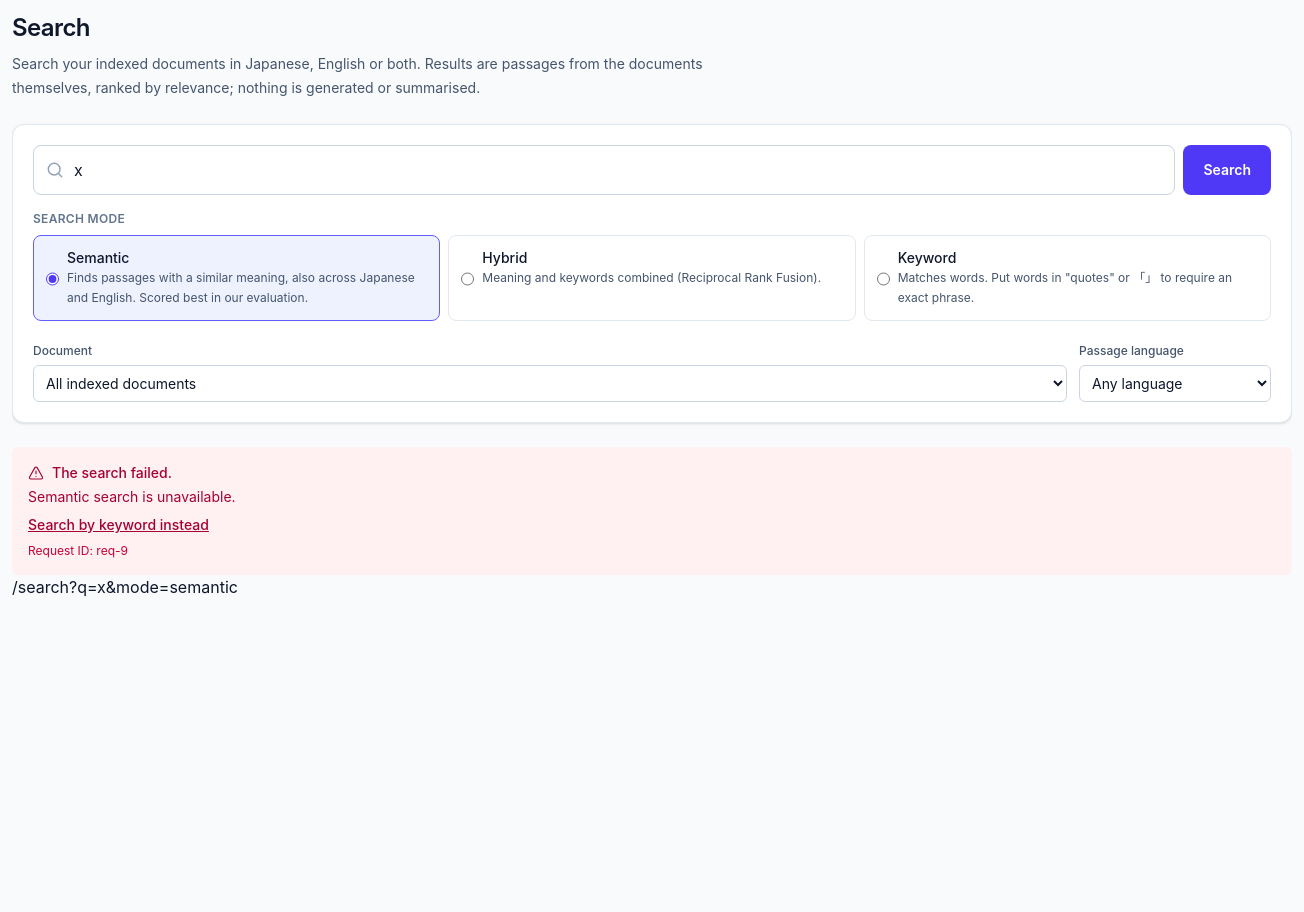
Scenario: SearchPage › offers keyword search when semantic search is unavailable
Check: the message shows "Semantic search is unavailable.", box [28, 488, 236, 505]
Check: the message shows "Request ID: req-9", box [12, 447, 1292, 575]
Click the button "Search by keyword instead" at (118, 525), box [28, 515, 209, 535]
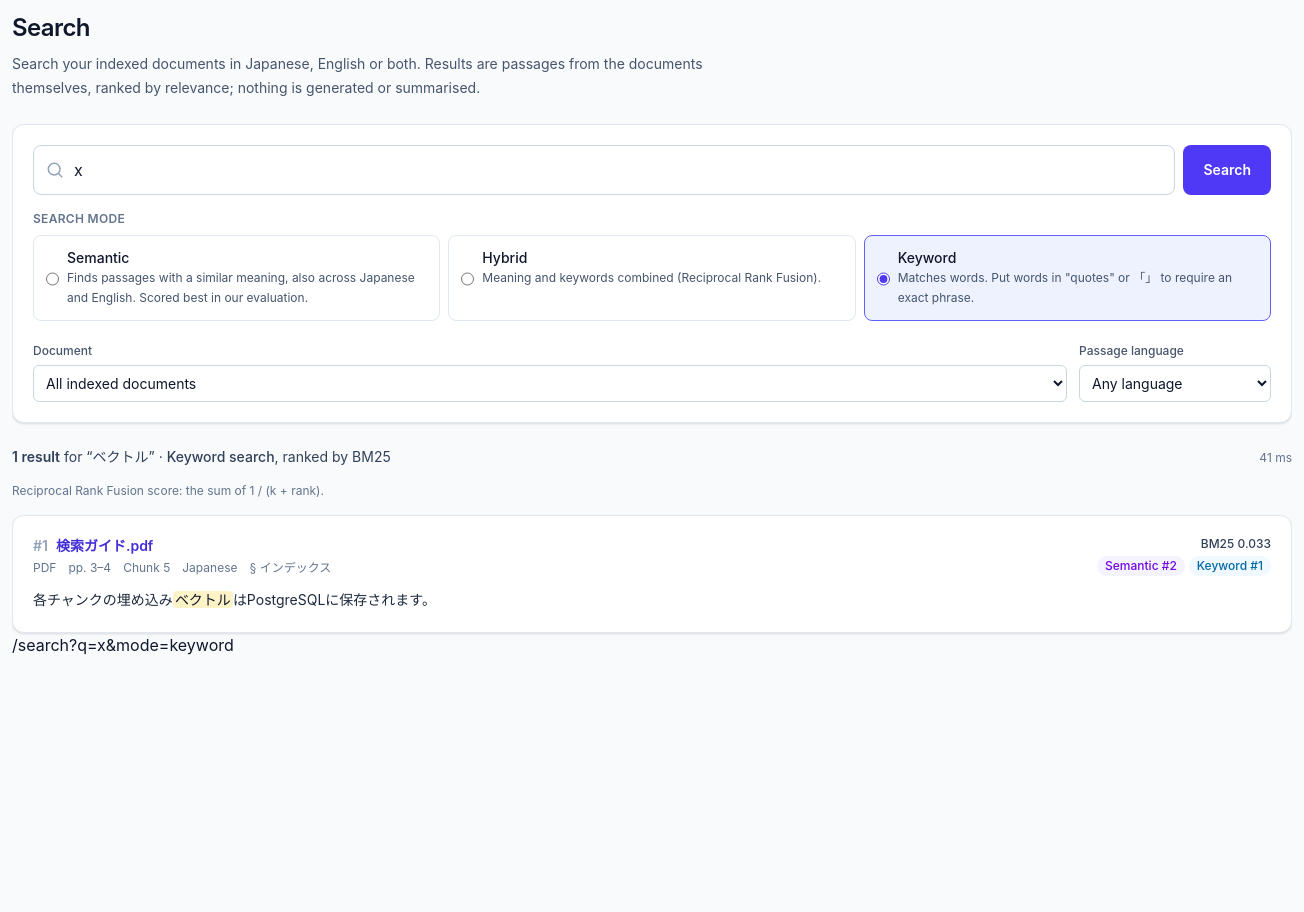
Check: the element that starts with "検索ガイド.pdf" is shown, box [12, 515, 1292, 633]
